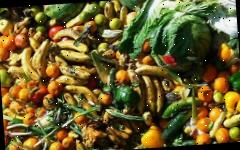organic: (116, 0, 166, 54), (20, 44, 40, 84), (139, 124, 168, 148), (214, 40, 231, 66), (212, 74, 229, 94), (13, 30, 26, 49)
